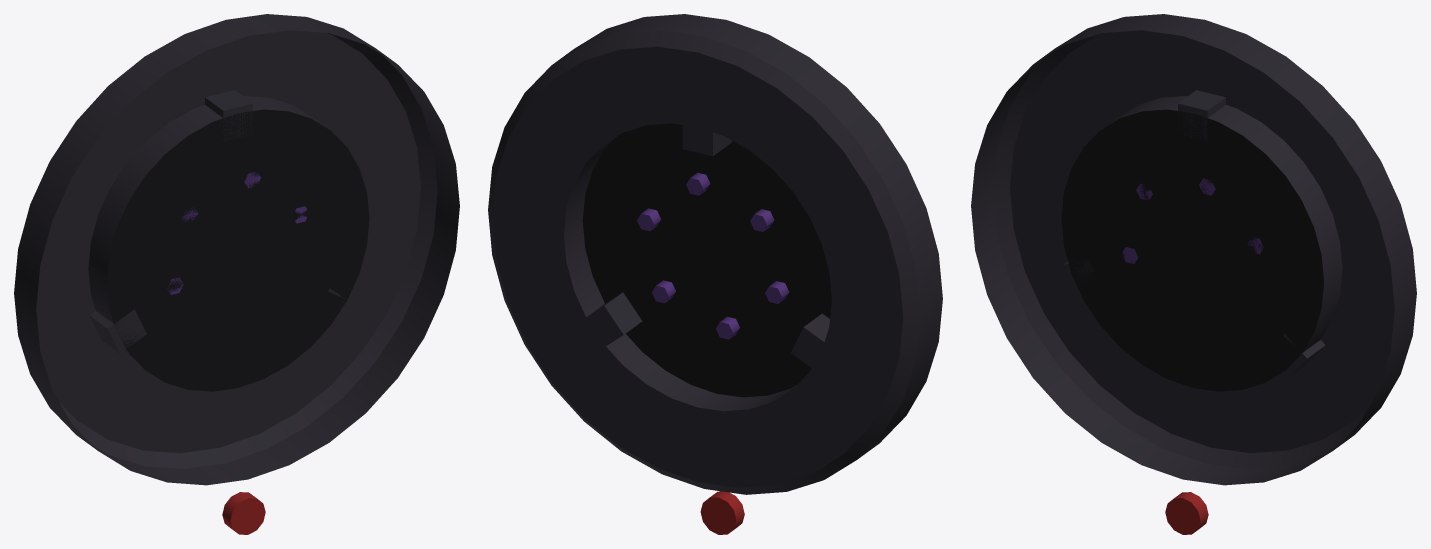
The model's file is z05_socket.obj.
3 views of the same model, side by side, from view 1: azimuth 30°, elevation 25°; view 2: azimuth 150°, elevation 25°; view 3: azimuth 330°, elevation 25° (orthographic). The views are drawn at different scales.
Parts seen in each view (by area): view 1: z05_socket; view 2: z05_socket; view 3: z05_socket.
Part boxes in pixels (left/top/right/bottom): z05_socket: left=14, top=14, right=459, bottom=534; z05_socket: left=488, top=14, right=942, bottom=534; z05_socket: left=971, top=14, right=1416, bottom=534.
Bounding box in the file's own units: 0.6 × 0.675 × 0.0695.
